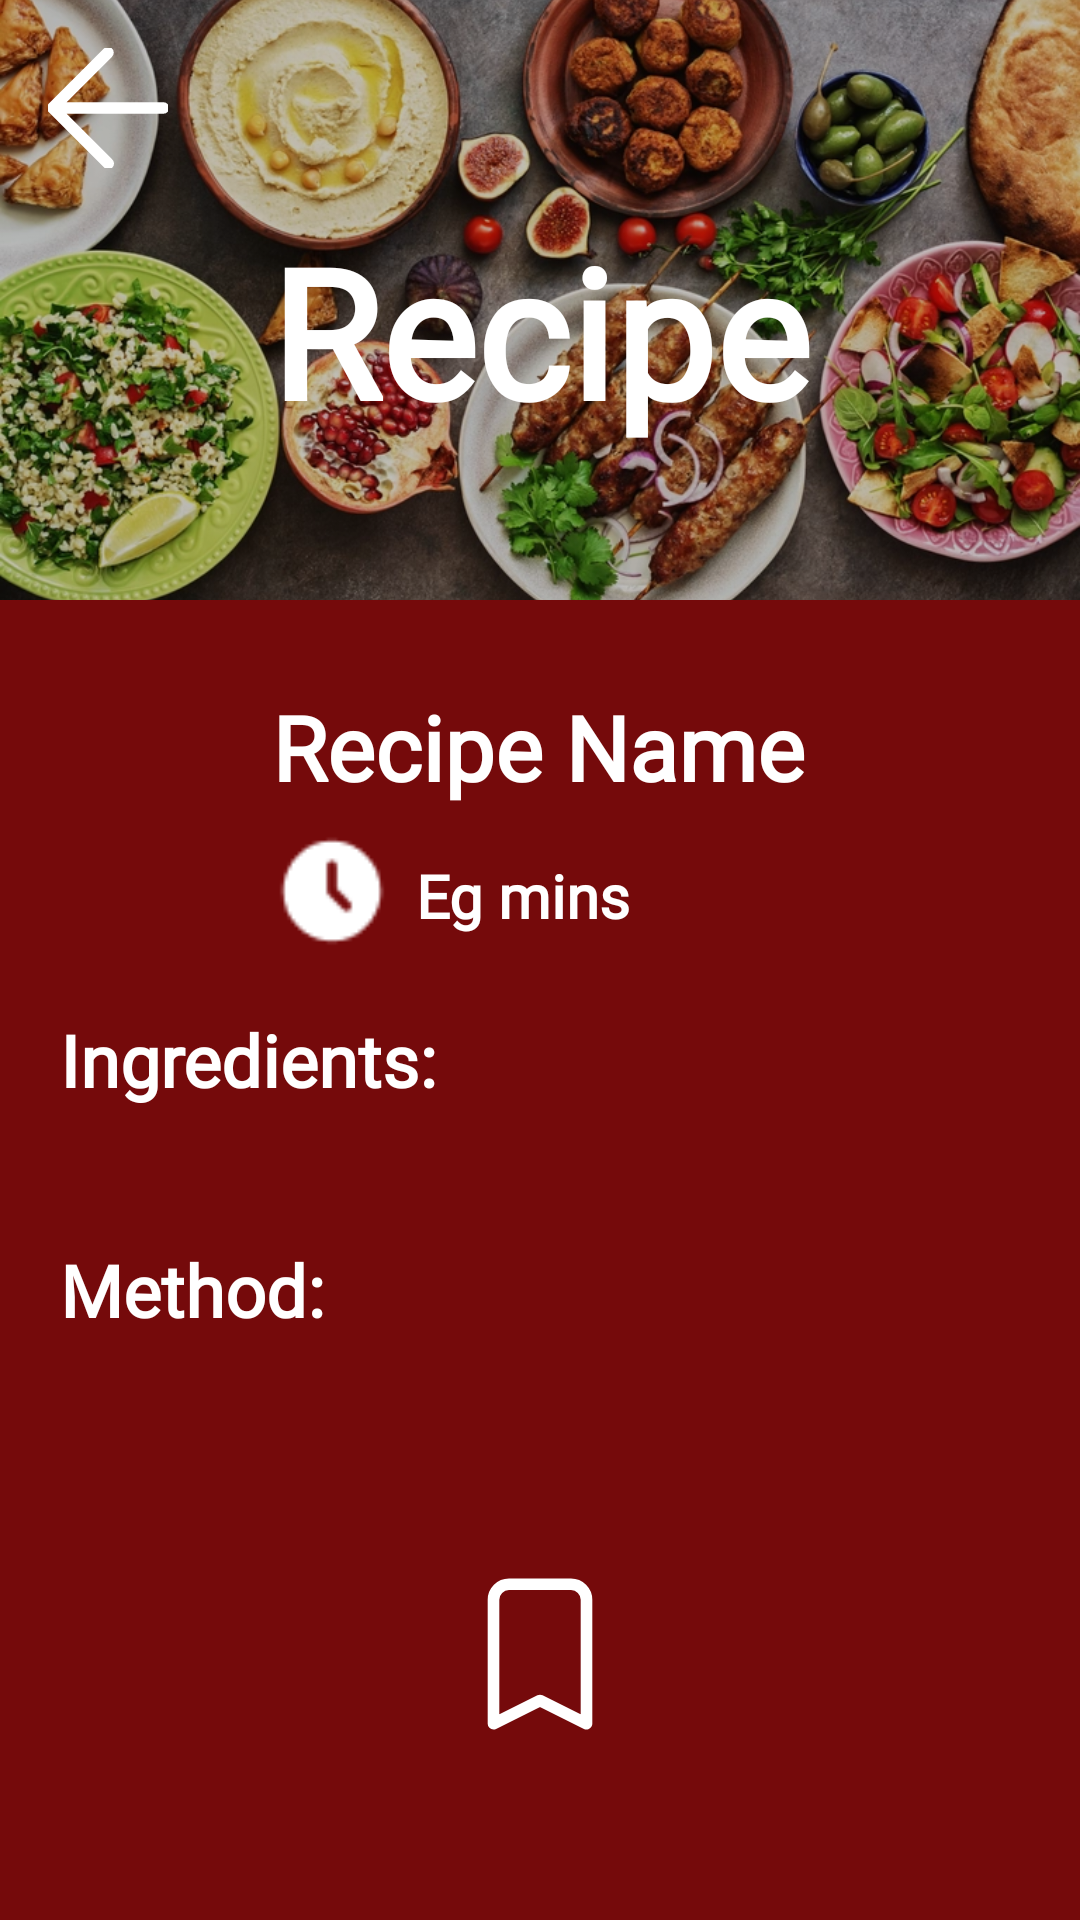

Where icons sit on this 1080px×1920px app screen, as (x1, y1, x2, y2):
biggerclock: (280, 839, 384, 943)
bookmark: (487, 1578, 593, 1730)
